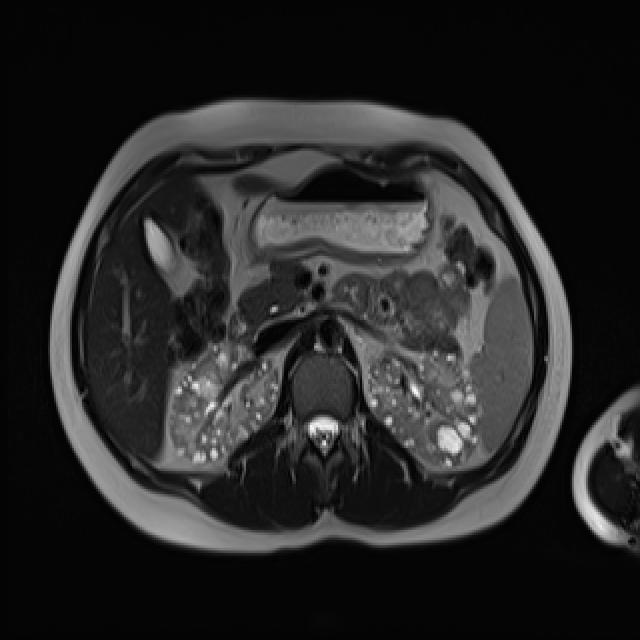sag: (166, 339, 280, 466)
sol: (366, 348, 483, 471)
